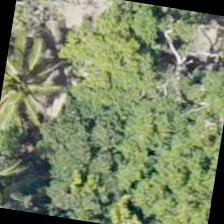Kelapa_Sawit: (0, 142, 46, 213)
